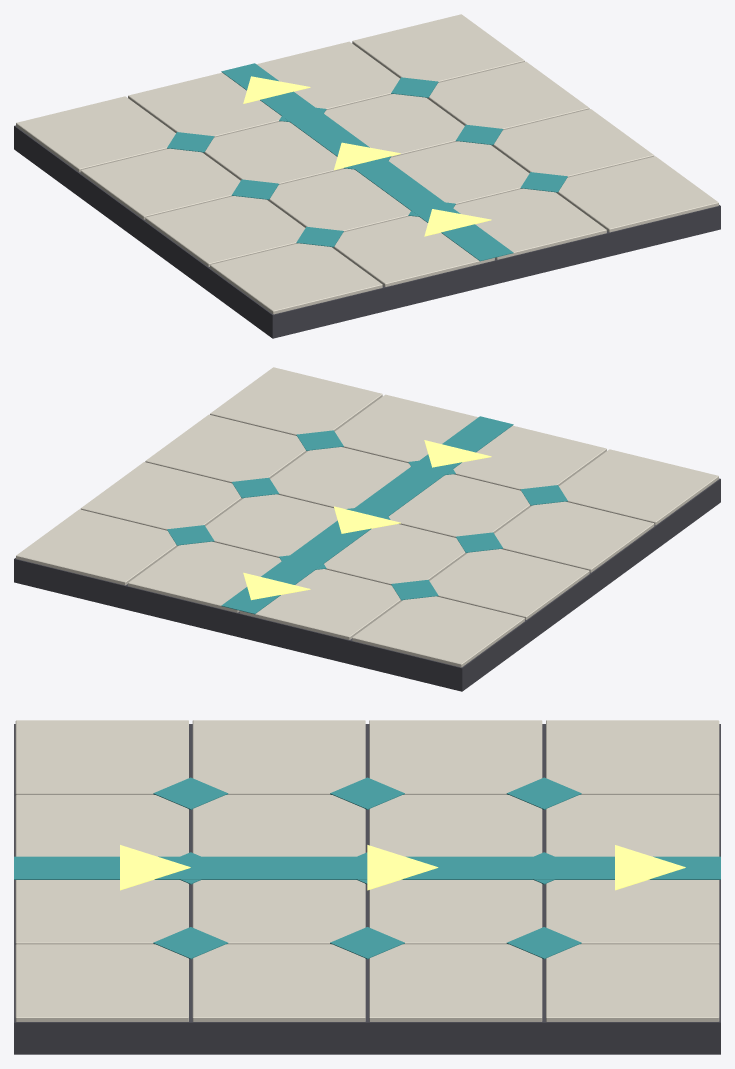
The model's file is floor_mp_arrow.glb.
3 views of the same model, one above another, from view 1: azimuth 30°, elevation 25°; view 2: azimuth 150°, elevation 25°; view 3: azimuth 270°, elevation 25° (orthographic). The views are drawn at different scales.
Visible parts, largest first — view 1: floor_mp_arrow; view 2: floor_mp_arrow; view 3: floor_mp_arrow.
Boxes of the visible parts, x1,y1,x2,y2 form: floor_mp_arrow: [14, 14, 720, 338]; floor_mp_arrow: [14, 367, 720, 691]; floor_mp_arrow: [14, 720, 720, 1054].
Bounding box in the file's own units: 4 × 0.238 × 4.
